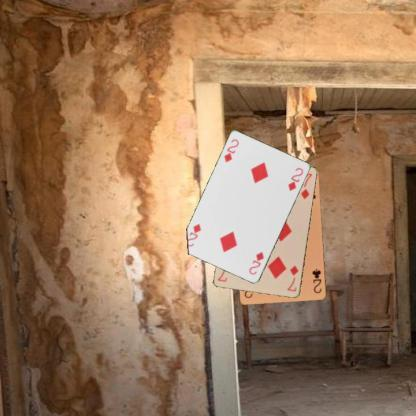2c: (310, 266, 324, 295)
2d: (246, 249, 265, 276), (222, 136, 240, 164)
7d: (285, 263, 300, 293)
